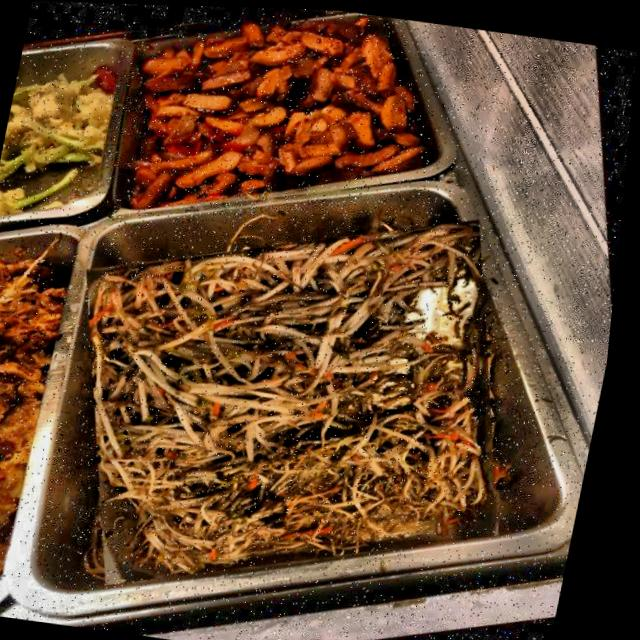Food: (32, 165, 568, 633)
